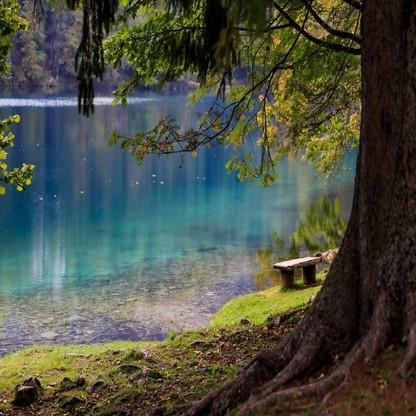obstacle: (266, 240, 327, 297)
